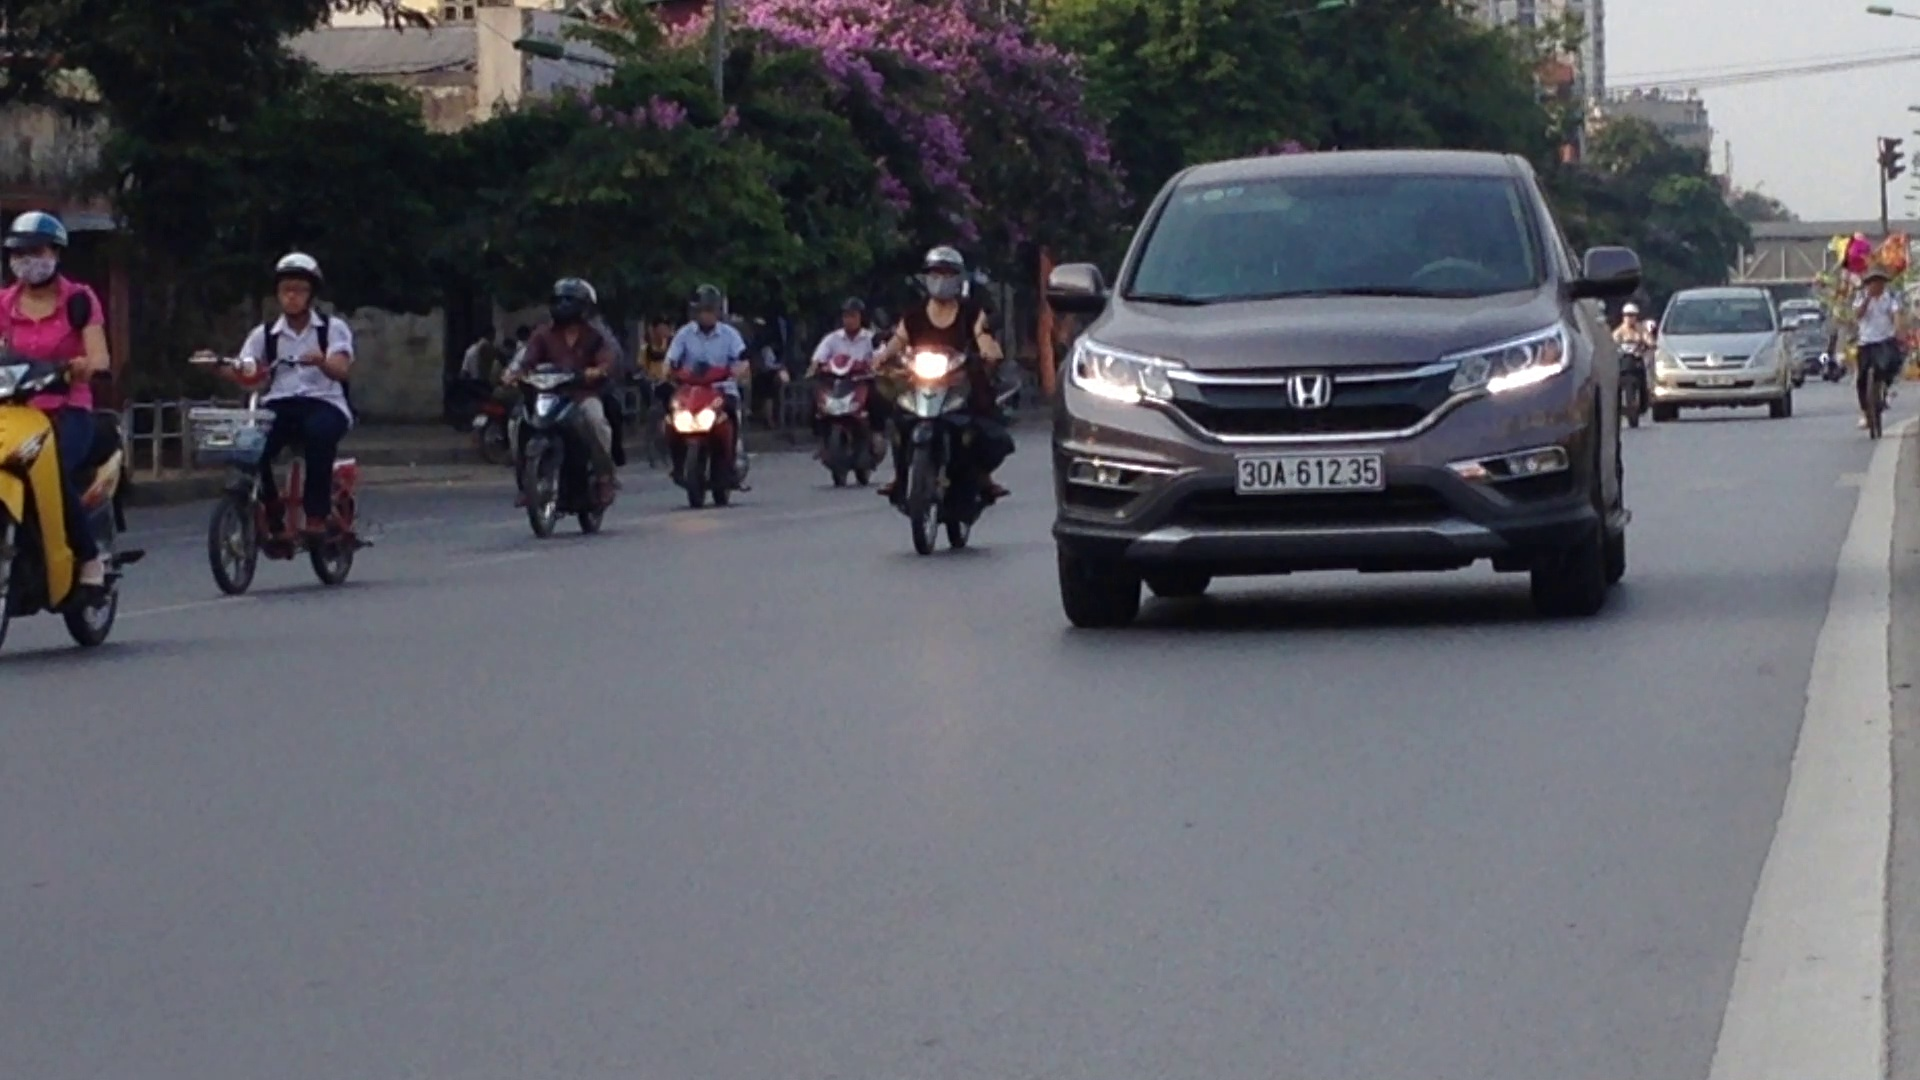vehicle-plate: (1231, 444, 1387, 496)
